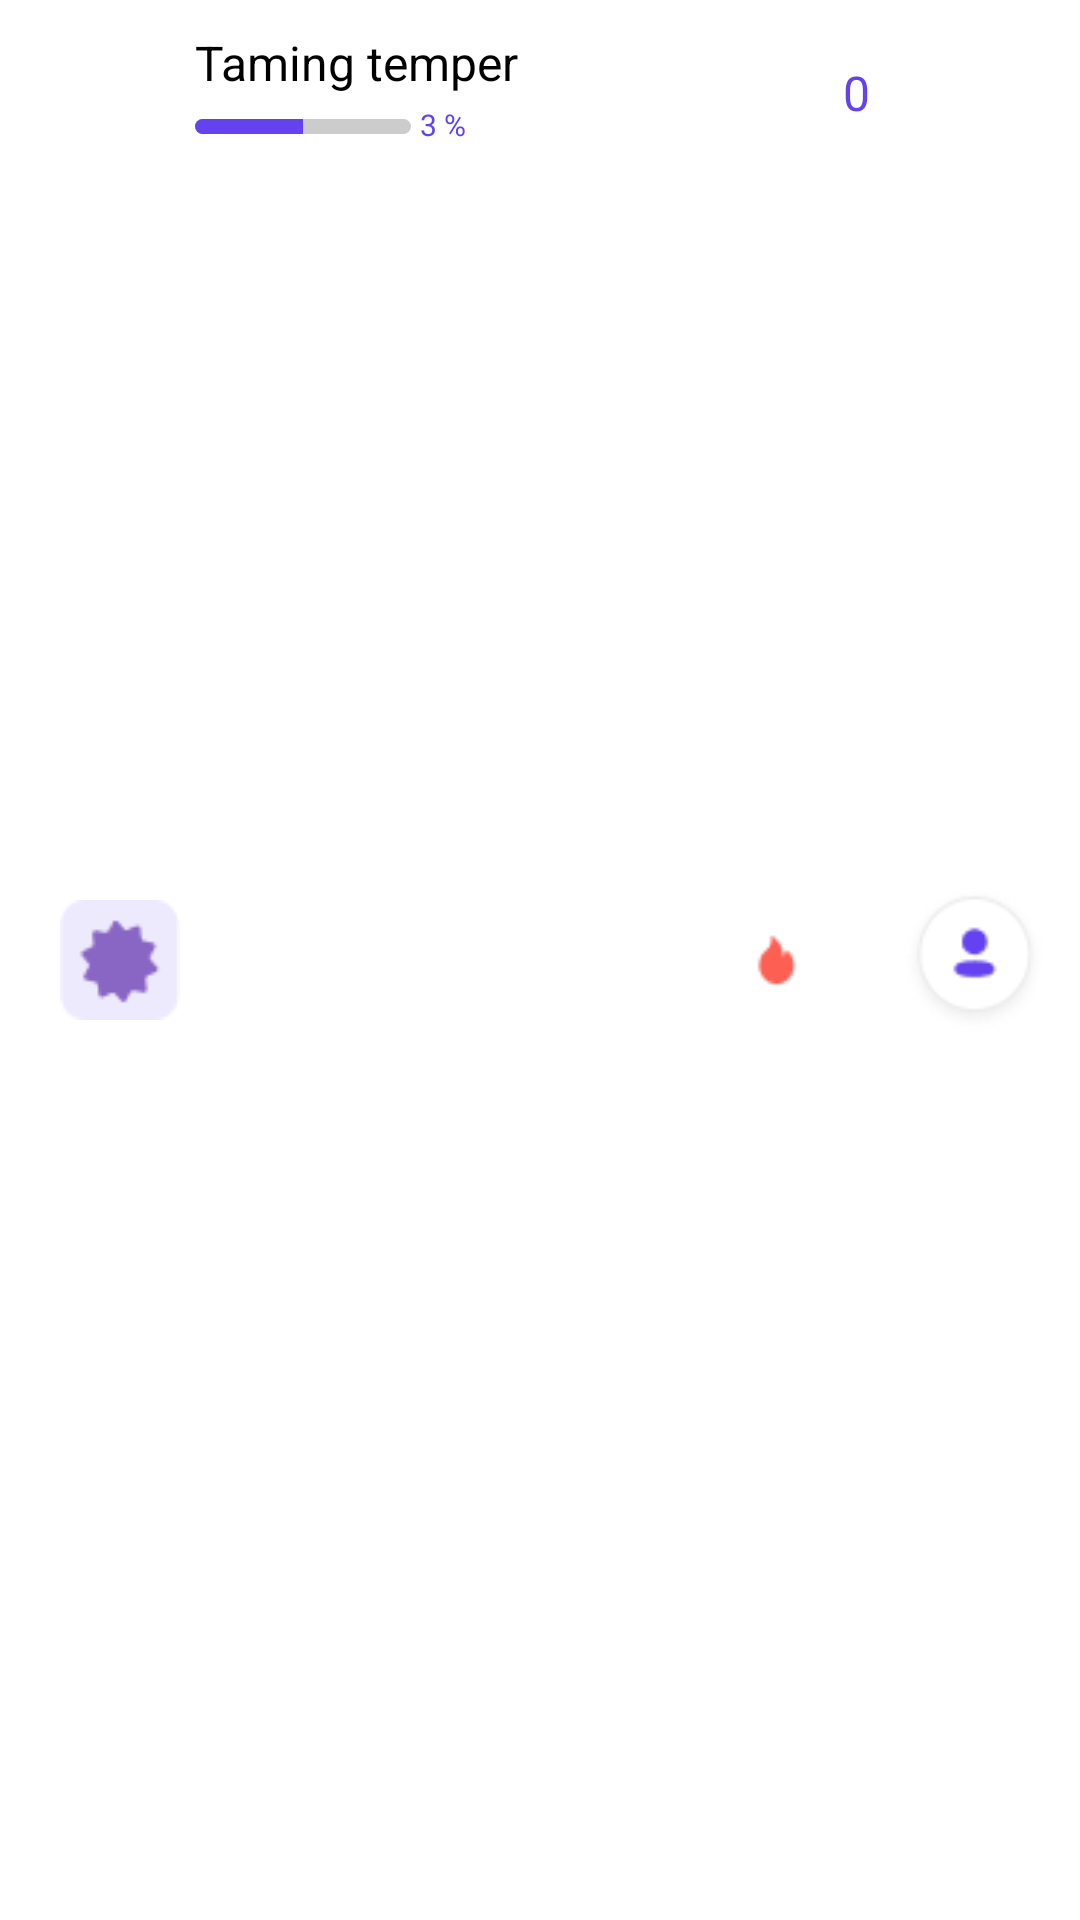

Icons on this 1080 x 1920 Android screen, each with the point to tap as point (x, y):
fire: point (776, 960)
profile: point (974, 952)
